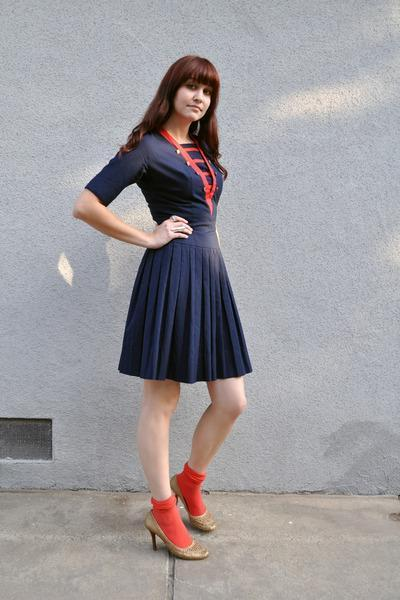dress: (85, 130, 256, 385)
